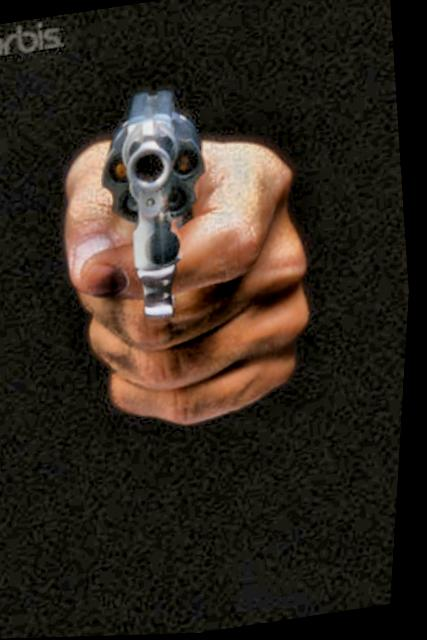pistol: (85, 76, 238, 331)
